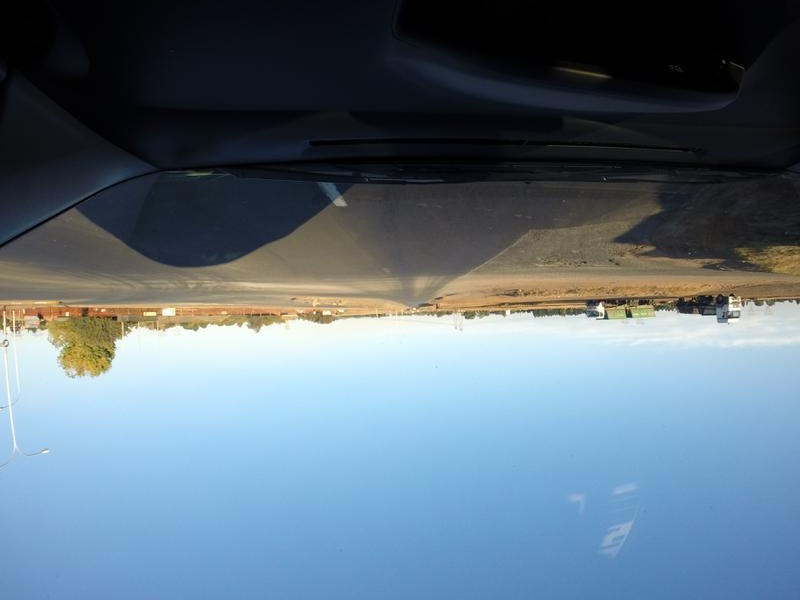pothole: (538, 260, 586, 268), (606, 256, 621, 267)
